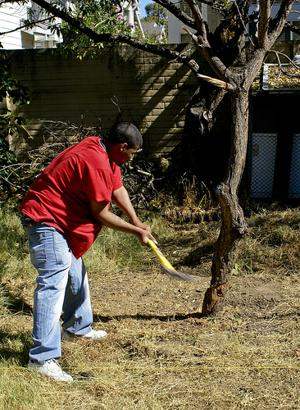person: (16, 122, 158, 384)
